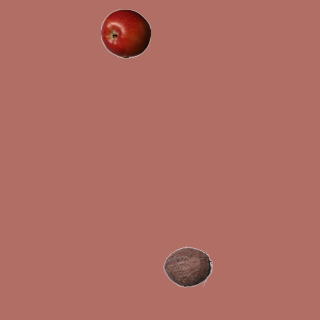Apple Braeburn: (100, 8, 150, 58)
Cocos: (162, 241, 212, 291)
